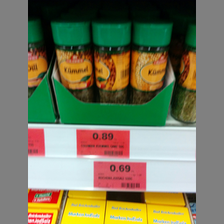spices: (51, 20, 96, 102), (130, 22, 172, 103), (94, 21, 131, 103)
